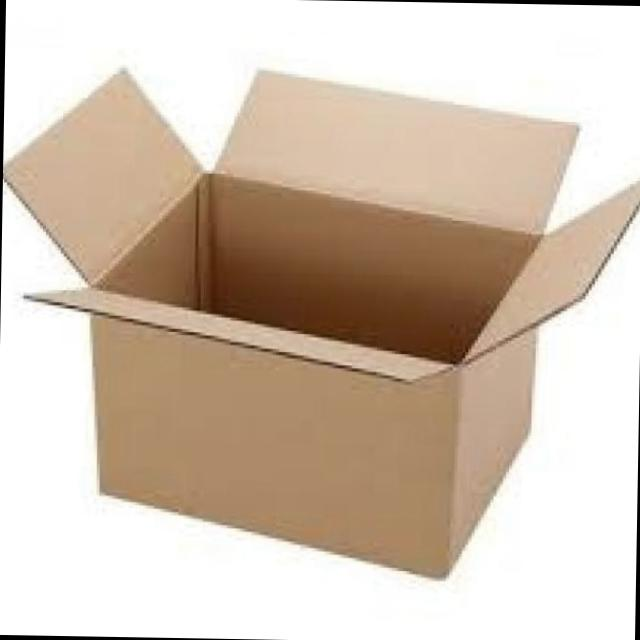cardboard paper: (3, 70, 640, 573)
